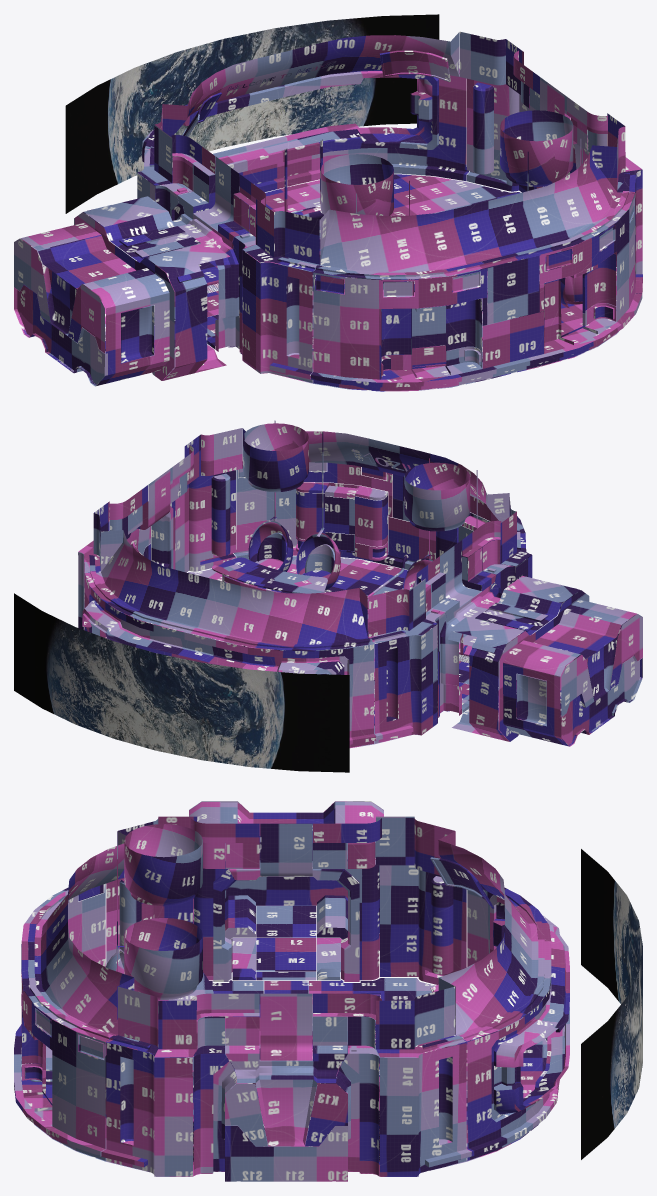
File: Room.obj
The picture shows the model from 3 angles, top to bottom: view 1: azimuth 30°, elevation 25°; view 2: azimuth 150°, elevation 25°; view 3: azimuth 270°, elevation 25°; orthographic projection. The views are drawn at different scales.
Parts seen in each view (by area): view 1: Room2_Cylinder.012, Space_Plane.000; view 2: Room2_Cylinder.012, Space_Plane.000; view 3: Room2_Cylinder.012, Space_Plane.000.
Part boxes in pixels (x1=…): Room2_Cylinder.012: x1=14, y1=31, x2=642, y2=391; Space_Plane.000: x1=65, y1=14, x2=439, y2=213; Room2_Cylinder.012: x1=78, y1=420, x2=642, y2=748; Space_Plane.000: x1=14, y1=593, x2=349, y2=772; Room2_Cylinder.012: x1=14, y1=801, x2=569, y2=1181; Space_Plane.000: x1=581, y1=849, x2=642, y2=1159.
Size of the model in its own units: 17.01 by 5.6 by 16.28.
3 materials, 3 textured.
